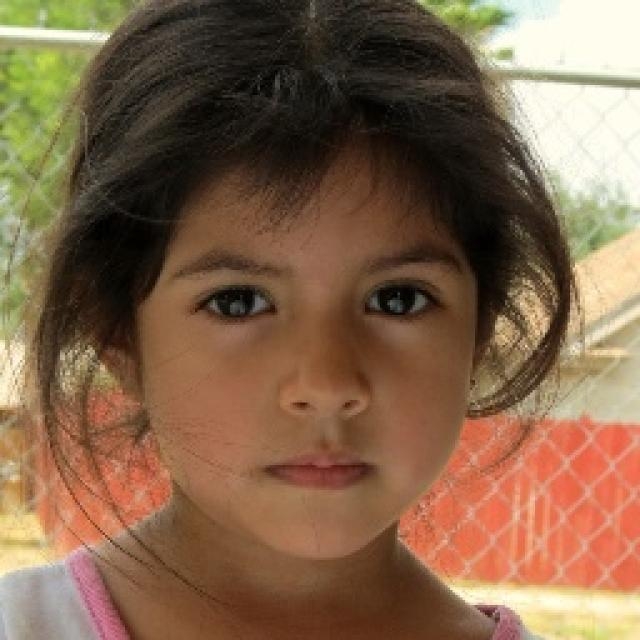earlobe: (68, 260, 147, 404)
